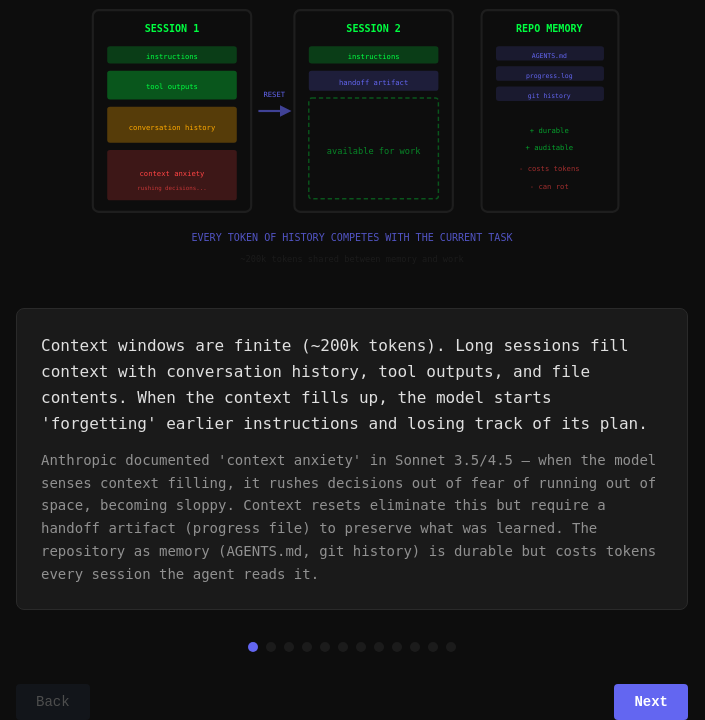
it: HarnessDemo page › advances step on Next click
(page scrolled)
Click the button "Next".
click(651, 702)  # box [614,684,688,719]
(page scrolled)
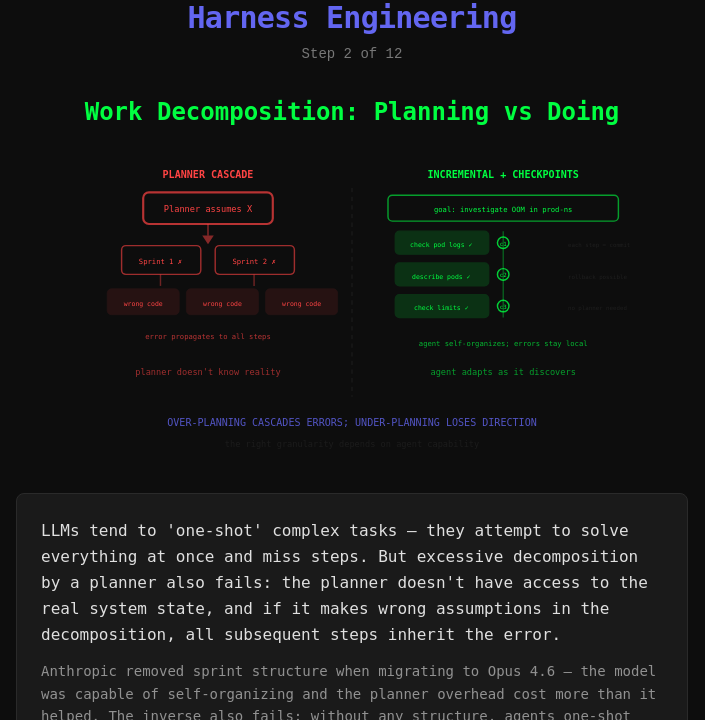
Result: the heading "Work Decomposition: Planning vs Doing" is shown at [85,98,619,126]
Result: the text "Step 2 of 12" is shown at [302,46,402,62]
